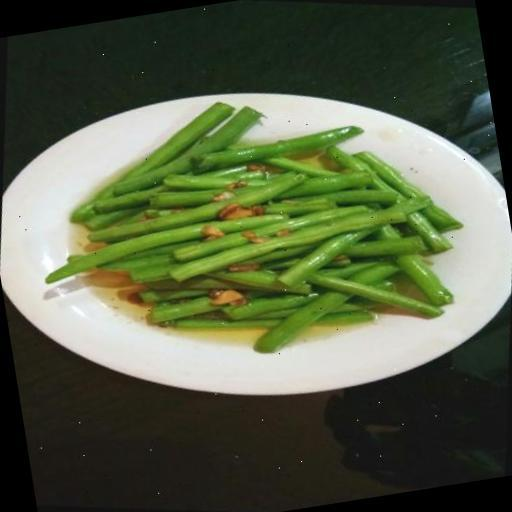buncis_rebus: (0, 23, 499, 437)
